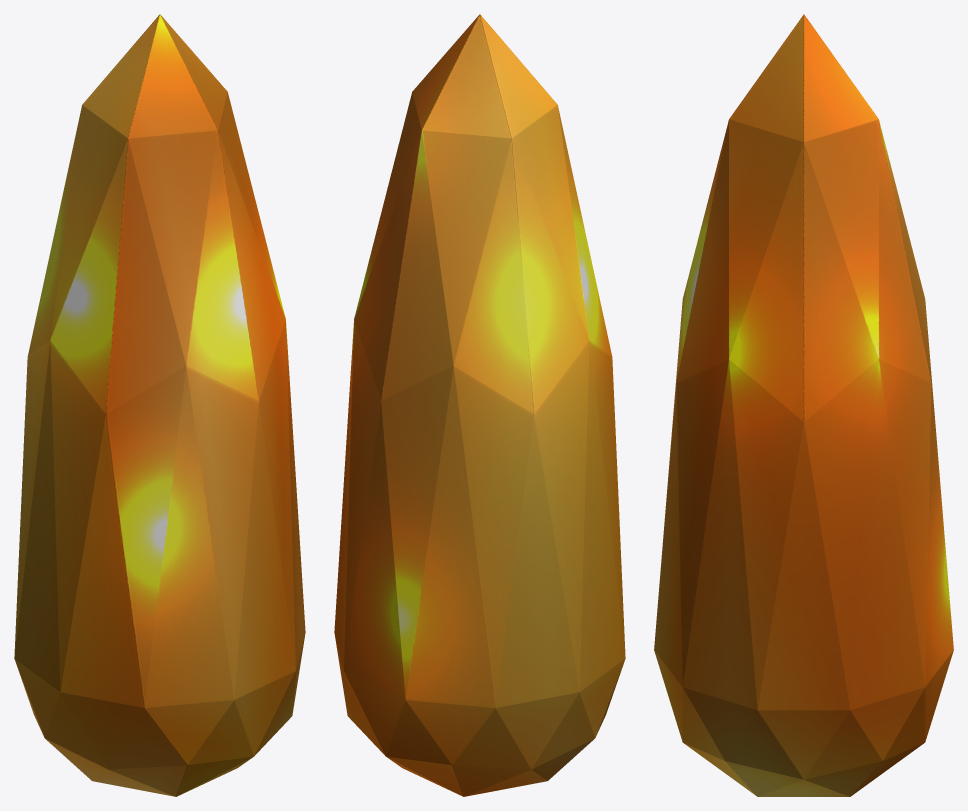
The model's file is orange1.glb.
3 views of the same model, side by side, from view 1: azimuth 30°, elevation 25°; view 2: azimuth 150°, elevation 25°; view 3: azimuth 270°, elevation 25° (orthographic).
Visible parts, largest first — view 1: Icosphere; view 2: Icosphere; view 3: Icosphere.
Boxes of the visible parts, x1,y1,x2,y2 form: Icosphere: [14, 14, 305, 796]; Icosphere: [334, 14, 625, 796]; Icosphere: [654, 14, 953, 796].
Size of the model in its own units: 1.9 by 5.71 by 2.
1 material, 1 textured.
